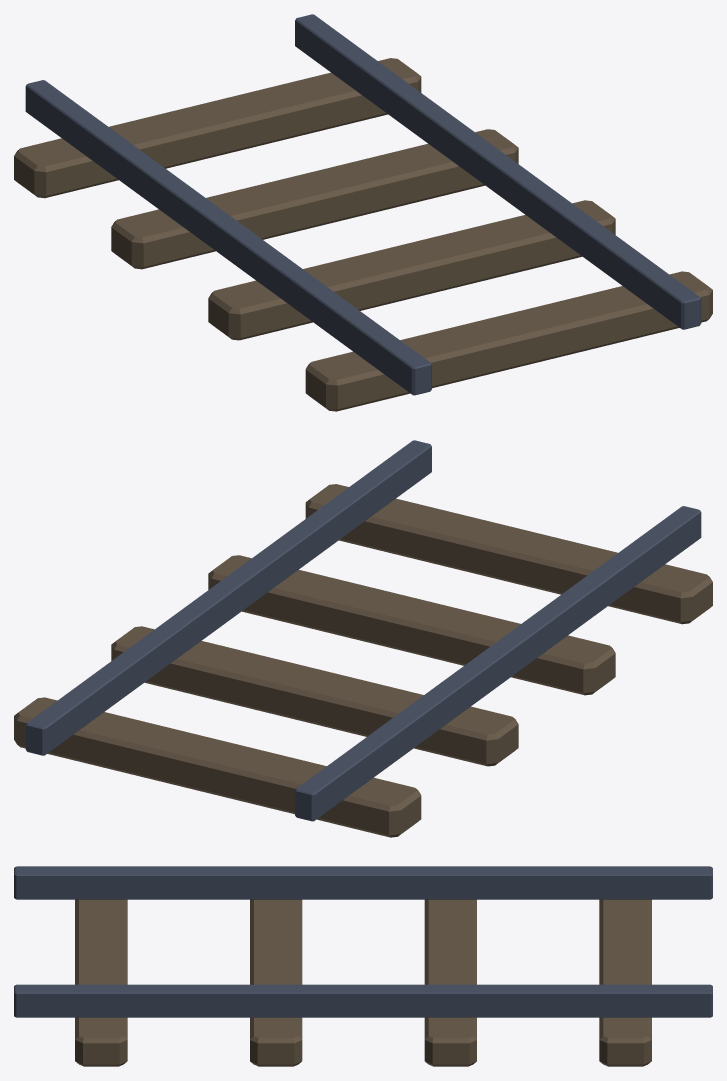
Rendered from track-straight.glb.
The picture shows the model from 3 angles, top to bottom: view 1: azimuth 30°, elevation 25°; view 2: azimuth 150°, elevation 25°; view 3: azimuth 270°, elevation 25°; orthographic projection. The views are drawn at different scales.
Visible parts, largest first — view 1: track-straight__body; view 2: track-straight__body; view 3: track-straight__body.
Boxes of the visible parts, x1,y1,x2,y2 form: track-straight__body: (14, 14, 712, 411); track-straight__body: (14, 440, 712, 837); track-straight__body: (14, 866, 712, 1066).
Bounding box in the file's own units: 1.15 × 0.17 × 2.
